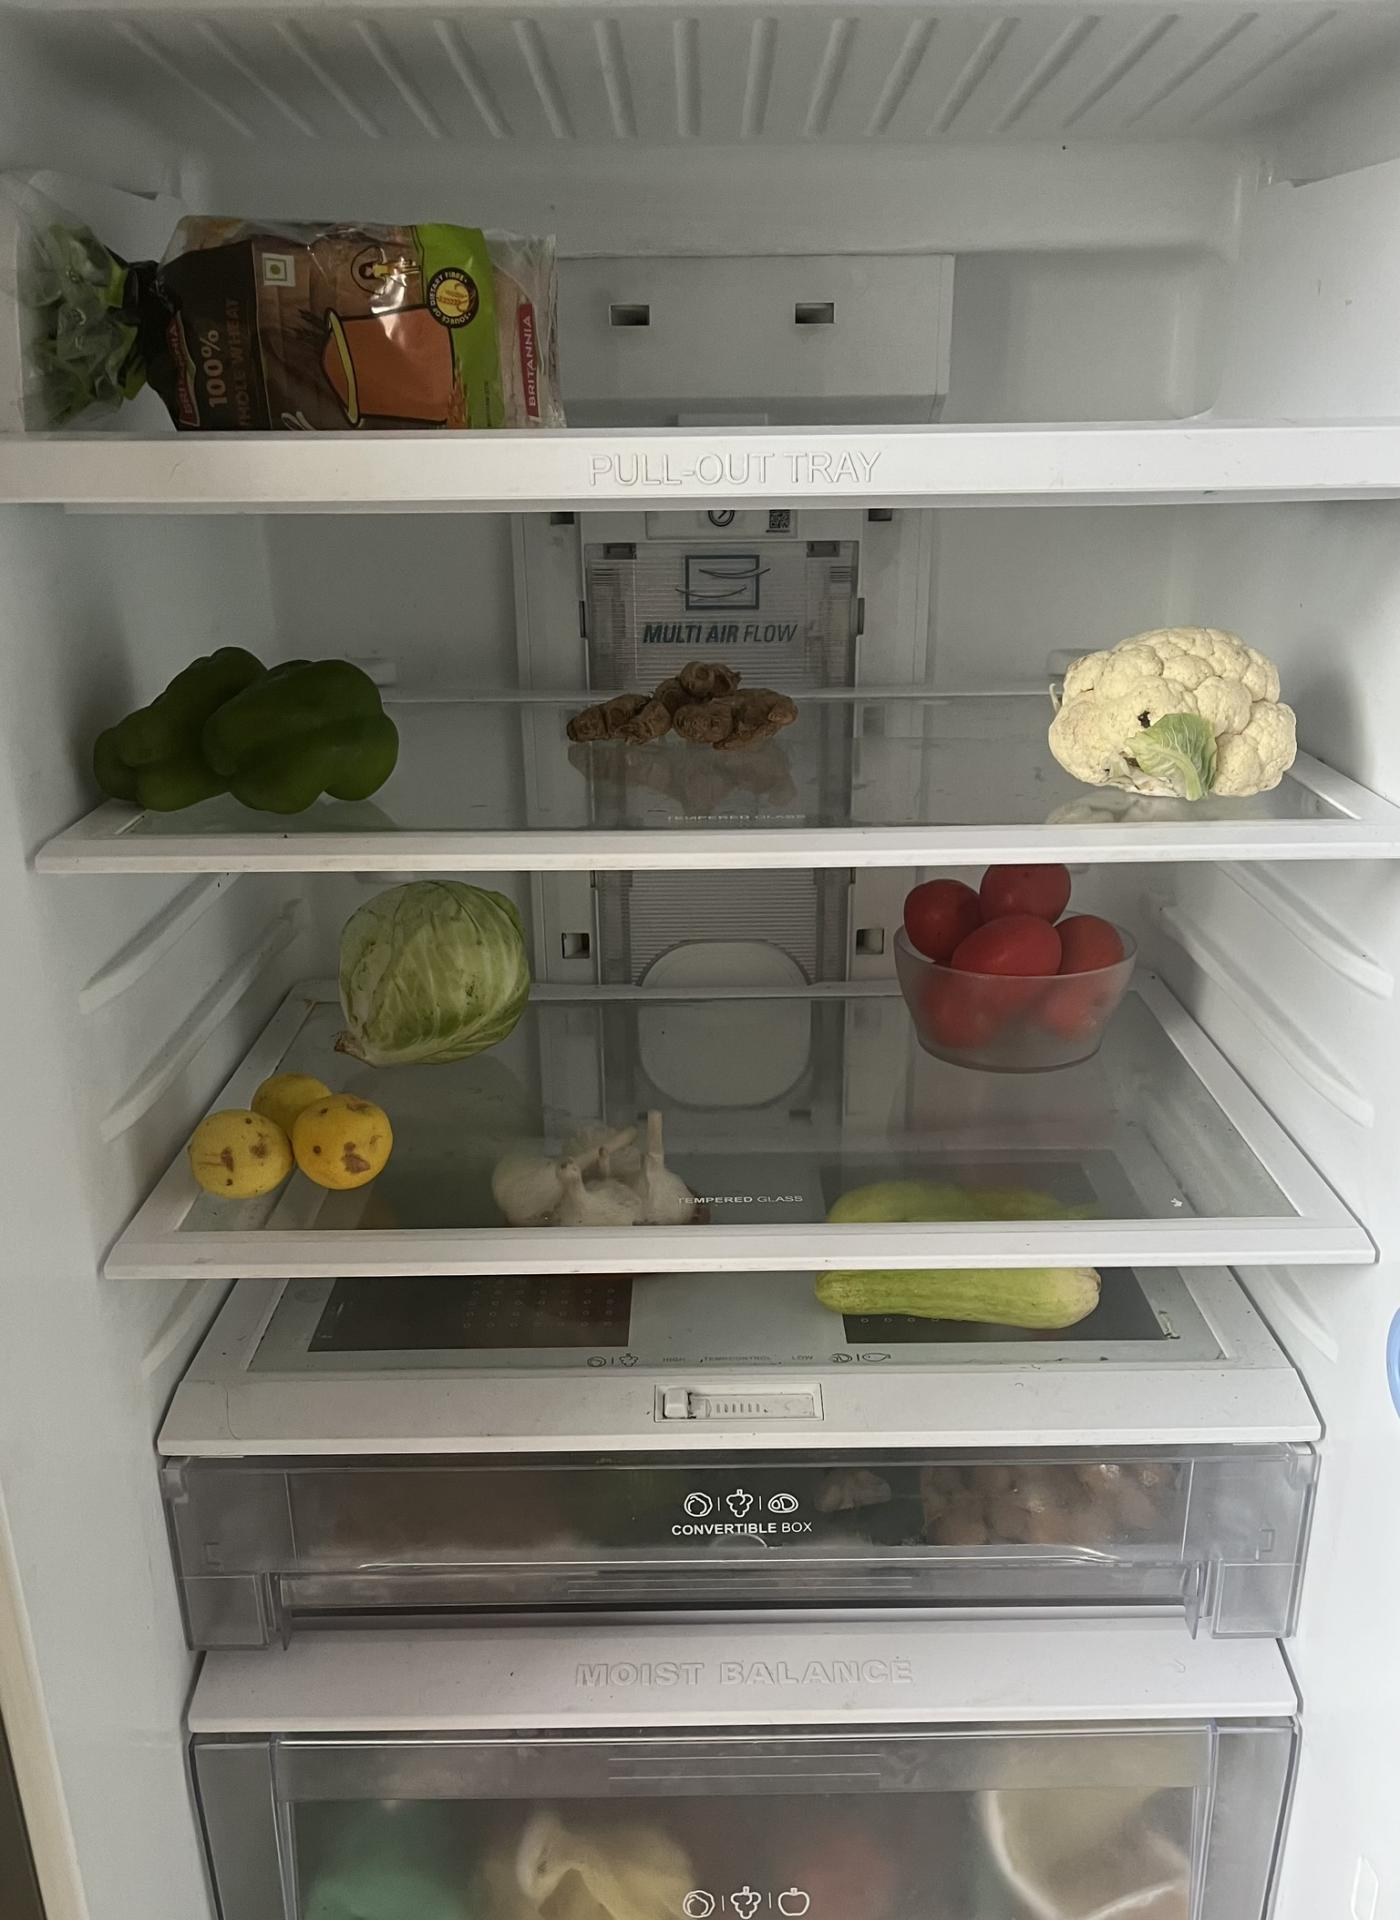bread: (21, 200, 595, 434)
cabbage: (325, 875, 535, 1078)
capsicum: (85, 644, 404, 818)
cauliflower: (1042, 619, 1315, 806)
cucumber: (811, 1169, 1127, 1334)
garlic: (483, 1100, 708, 1225)
ginger: (556, 647, 817, 759)
lemon: (179, 1069, 404, 1200)
tomato: (893, 860, 1133, 1082)
